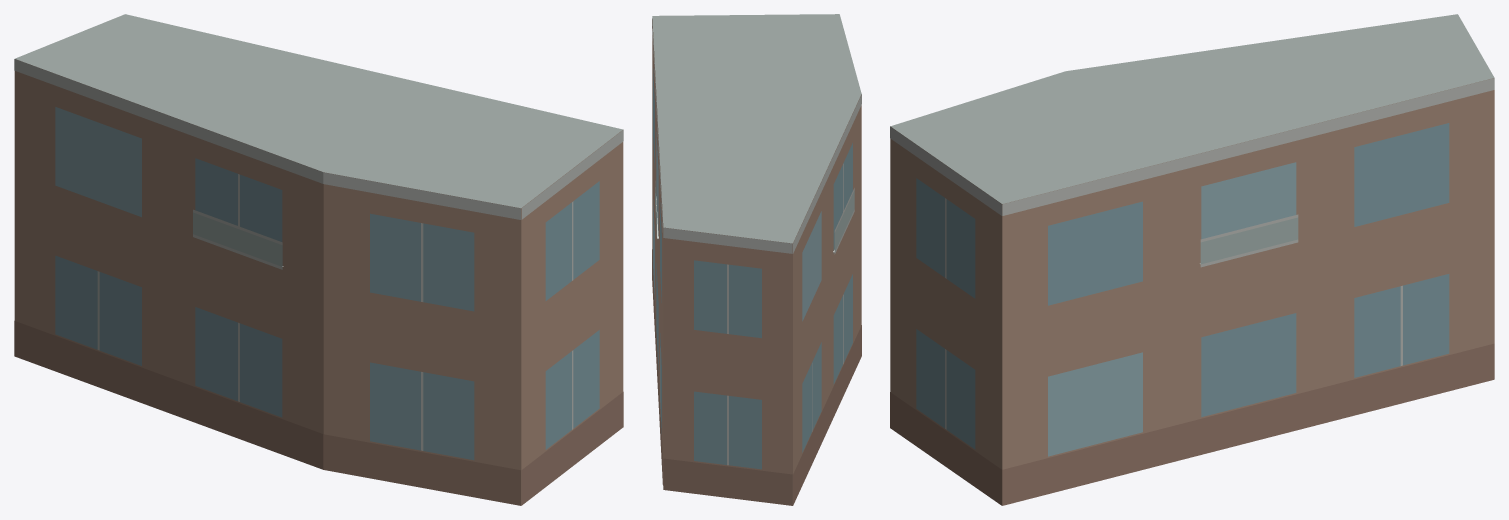
File: survey-upis-32466651.glb
3 renders of one model, left to right at view 1: azimuth 30°, elevation 25°; view 2: azimuth 150°, elevation 25°; view 3: azimuth 270°, elevation 25°, orthographic. The views are drawn at different scales.
Visible parts, largest first — view 1: survey-upis-32466651.tmp; view 2: survey-upis-32466651.tmp; view 3: survey-upis-32466651.tmp.
Boxes of the visible parts, <box> form: survey-upis-32466651.tmp: <box>14,14,623,505</box>; survey-upis-32466651.tmp: <box>652,14,861,505</box>; survey-upis-32466651.tmp: <box>890,14,1494,505</box>.
Bounding box in the file's own units: 8.25 × 6.1 × 11.08.
